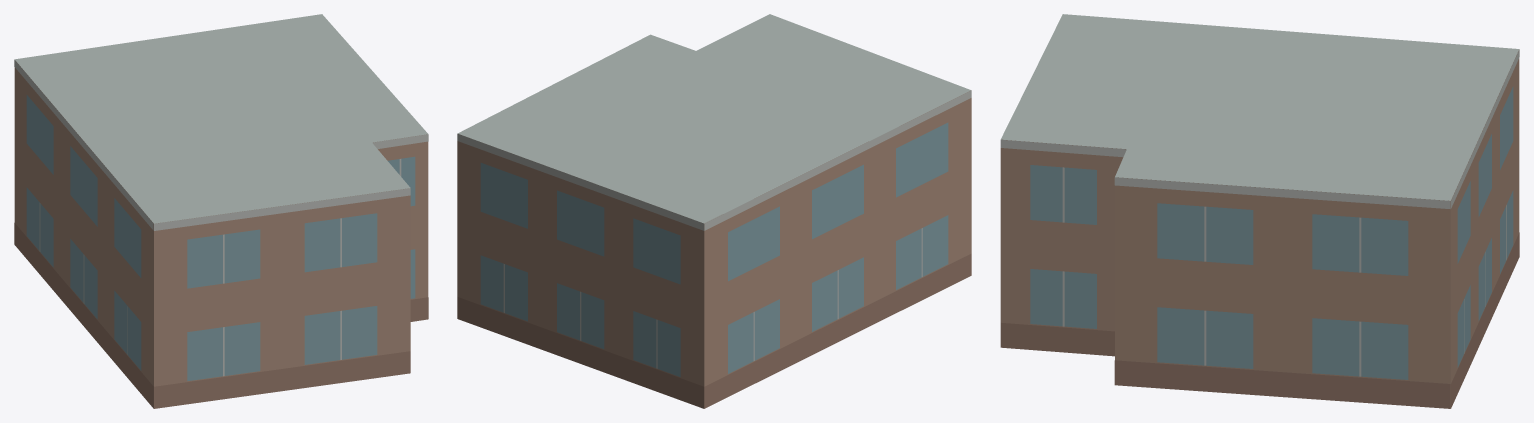
File: survey-upis-32495562.glb
3 views of the same model, side by side, from view 1: azimuth 30°, elevation 25°; view 2: azimuth 150°, elevation 25°; view 3: azimuth 270°, elevation 25° (orthographic). The views are drawn at different scales.
Visible parts, largest first — view 1: survey-upis-32495562.tmp; view 2: survey-upis-32495562.tmp; view 3: survey-upis-32495562.tmp.
Boxes of the visible parts, x1,y1,x2,y2 form: survey-upis-32495562.tmp: (14,14,428,408); survey-upis-32495562.tmp: (457,14,971,408); survey-upis-32495562.tmp: (1000,14,1519,408).
Size of the model in its own units: 11.76 by 6.1 by 13.8.
